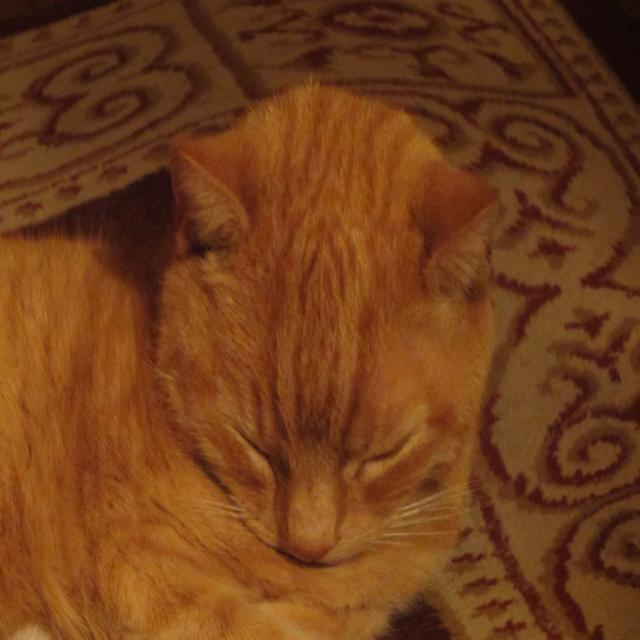Cat: (0, 77, 502, 638)
